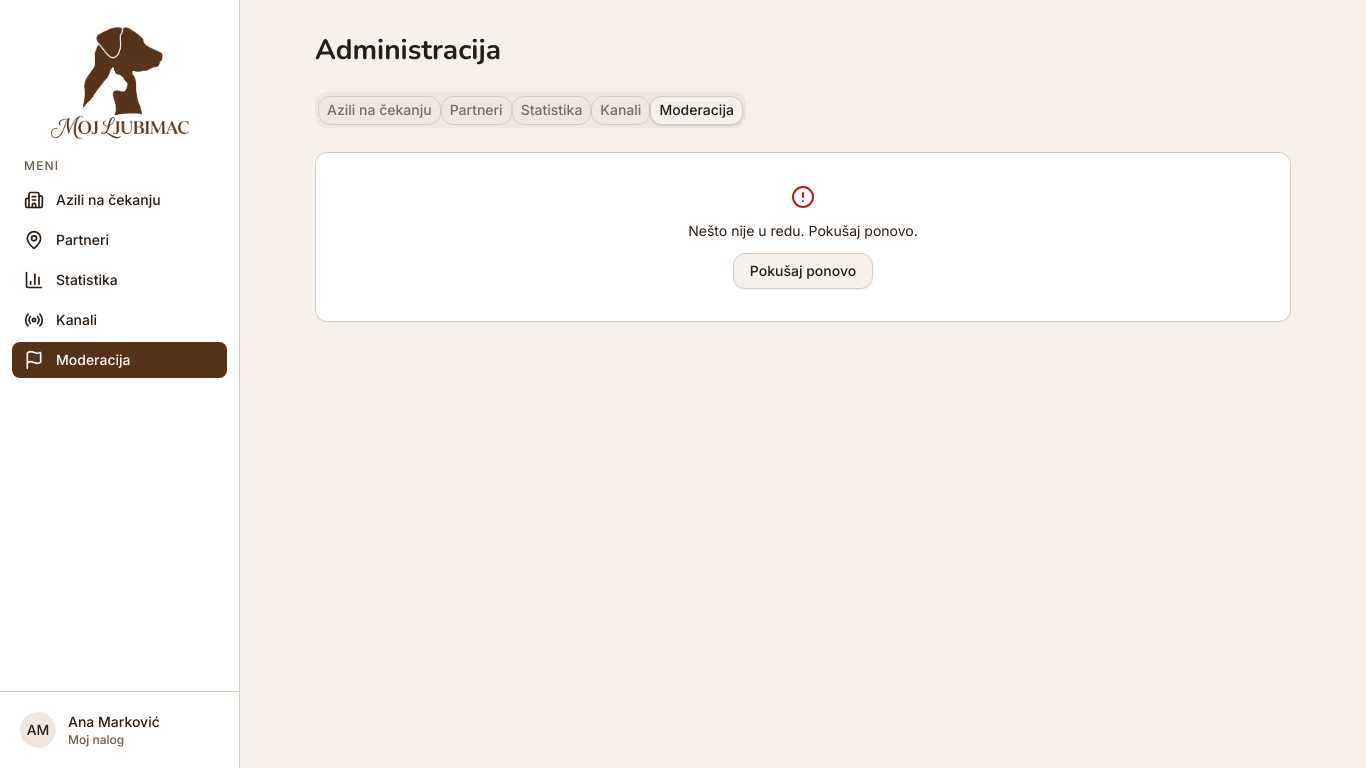
FR-71 #1 — open reports › error → retry reads again
Expected: the message shows "Nešto nije u redu. Pokušaj ponovo.", [688,222,918,239]
Click the button "Pokušaj ponovo": point(803, 271) [733,253,873,289]
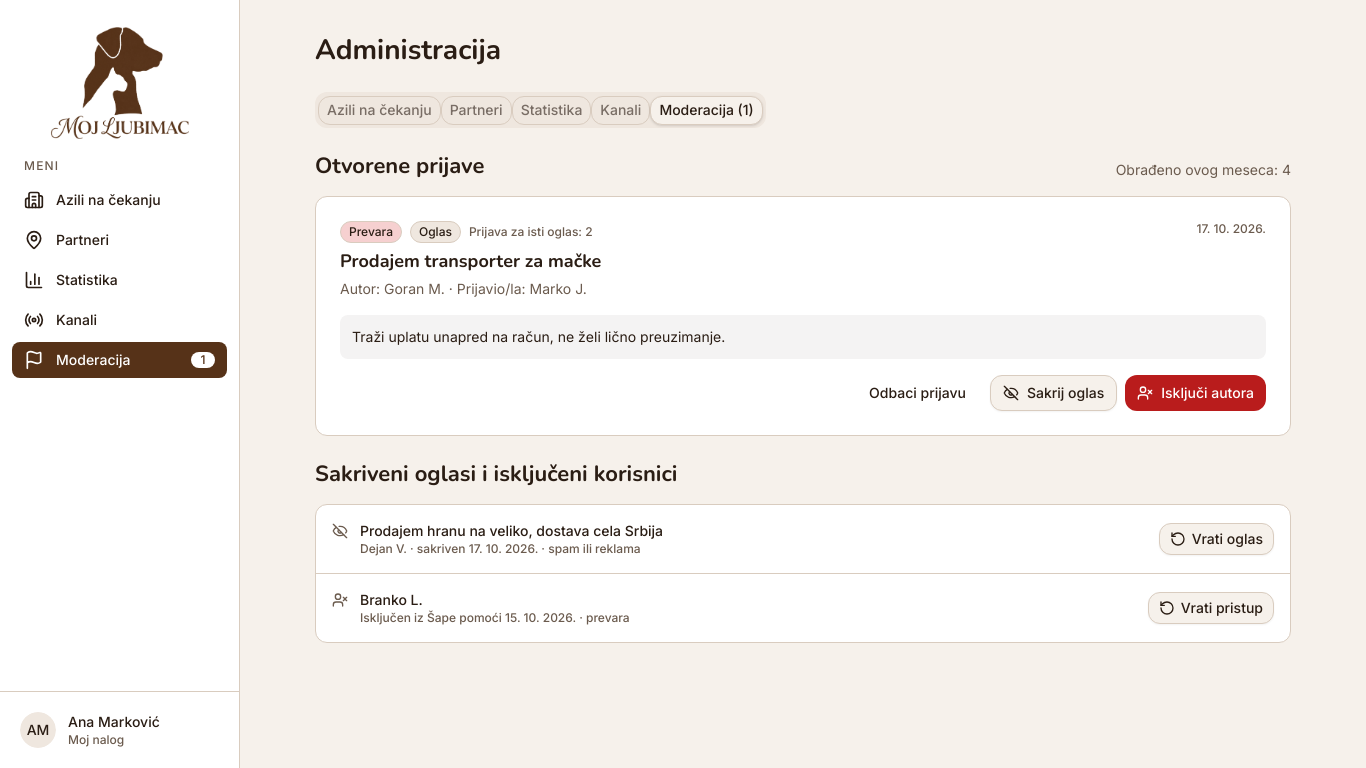
Expected: the heading "Prodajem transporter za mačke" is shown, [340,247,601,275]
